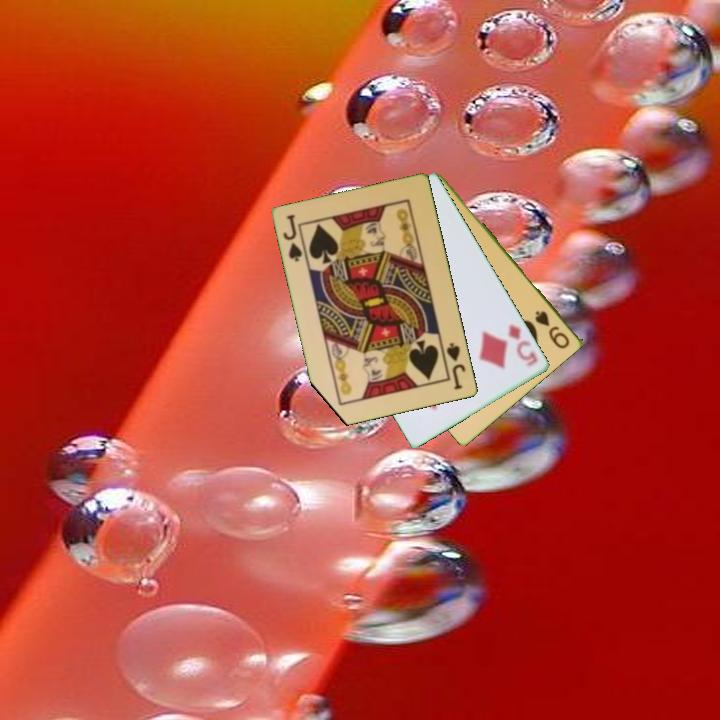5d: (505, 320, 541, 370)
9s: (532, 307, 573, 352)
Js: (443, 339, 469, 393), (280, 211, 306, 265)
